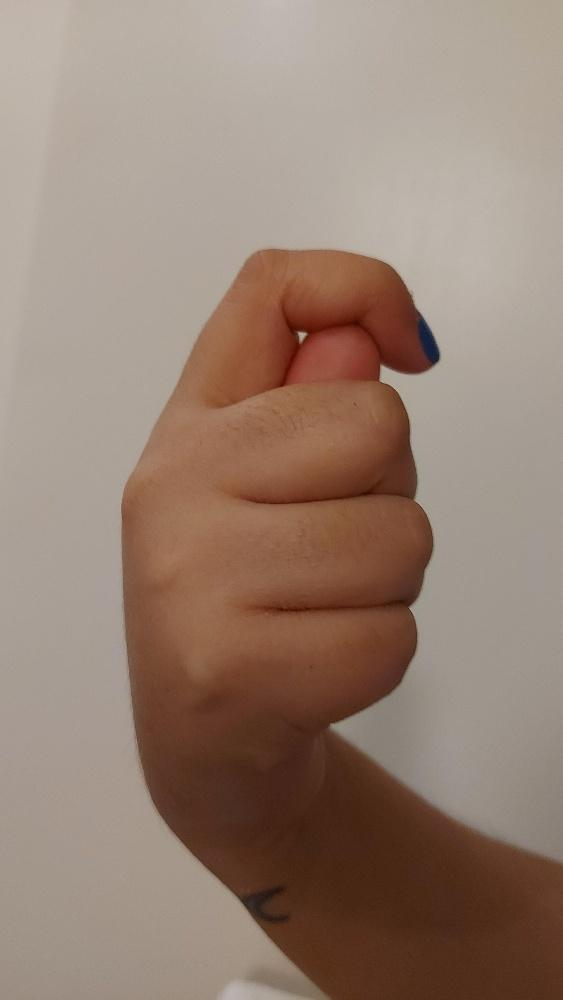t: (117, 246, 441, 822)
